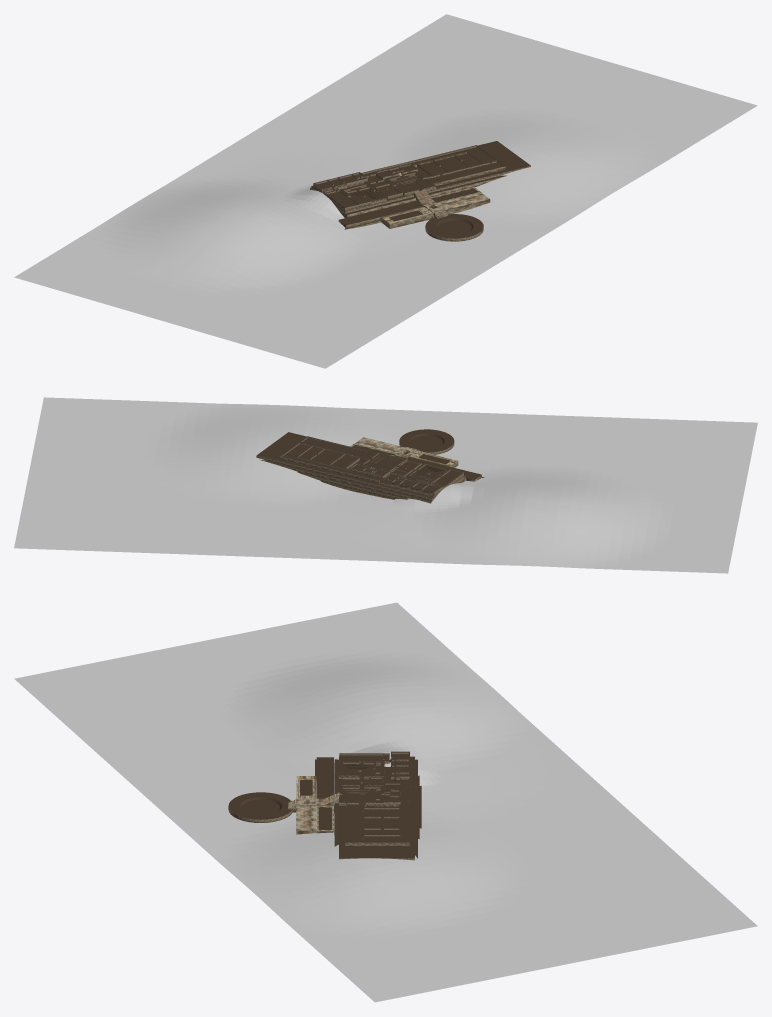
File: caral2.fbx
3 renders of one model, top to bottom at view 1: azimuth 30°, elevation 25°; view 2: azimuth 150°, elevation 25°; view 3: azimuth 270°, elevation 25°, orthographic. The views are drawn at different scales.
Parts seen in each view (by area): view 1: EXPORT_GOOGLE_SAT_WM, Cube.007, Cube, Middle, Plaza, Front, Cube.006, Cube.001, Cube.004; view 2: EXPORT_GOOGLE_SAT_WM, Cube, Cube.007, Plaza, Middle, Cube.006, Cube.001, Cube.004, Cube.002, Front, Cube.005, Cube.003; view 3: EXPORT_GOOGLE_SAT_WM, Cube, Cube.007, Plaza, Front, Middle, Cube.001, Cube.004, Cube.006.
Boxes of the visible parts, x1=… form: EXPORT_GOOGLE_SAT_WM: x1=14, y1=14, x2=757, y2=368; Cube.007: x1=407, y1=145, x2=505, y2=185; Cube: x1=310, y1=141, x2=530, y2=217; Middle: x1=380, y1=193, x2=490, y2=228; Plaza: x1=425, y1=214, x2=483, y2=241; Front: x1=338, y1=187, x2=481, y2=229; Cube.006: x1=313, y1=170, x2=380, y2=192; Cube.001: x1=385, y1=171, x2=435, y2=195; Cube.004: x1=340, y1=183, x2=386, y2=206; EXPORT_GOOGLE_SAT_WM: x1=14, y1=397, x2=757, y2=573; Cube: x1=256, y1=432, x2=466, y2=503; Cube.007: x1=280, y1=436, x2=374, y2=474; Plaza: x1=399, y1=429, x2=454, y2=454; Middle: x1=355, y1=437, x2=458, y2=467; Cube.006: x1=379, y1=474, x2=442, y2=496; Cube.001: x1=360, y1=451, x2=407, y2=471; Cube.004: x1=405, y1=462, x2=449, y2=483; Cube.002: x1=346, y1=463, x2=390, y2=483; Front: x1=350, y1=443, x2=484, y2=481; Cube.005: x1=430, y1=469, x2=463, y2=489; Cube.003: x1=390, y1=459, x2=421, y2=477; EXPORT_GOOGLE_SAT_WM: x1=14, y1=602, x2=757, y2=1002; Cube: x1=334, y1=756, x2=421, y2=860; Cube.007: x1=345, y1=802, x2=409, y2=845; Plaza: x1=228, y1=792, x2=292, y2=822; Front: x1=315, y1=757, x2=333, y2=833; Middle: x1=296, y1=776, x2=316, y2=834; Cube.001: x1=339, y1=786, x2=384, y2=806; Cube.004: x1=339, y1=761, x2=384, y2=778; Cube.006: x1=383, y1=751, x2=409, y2=786.
Size of the model in its own units: 51261 by 1051 by 40289.
